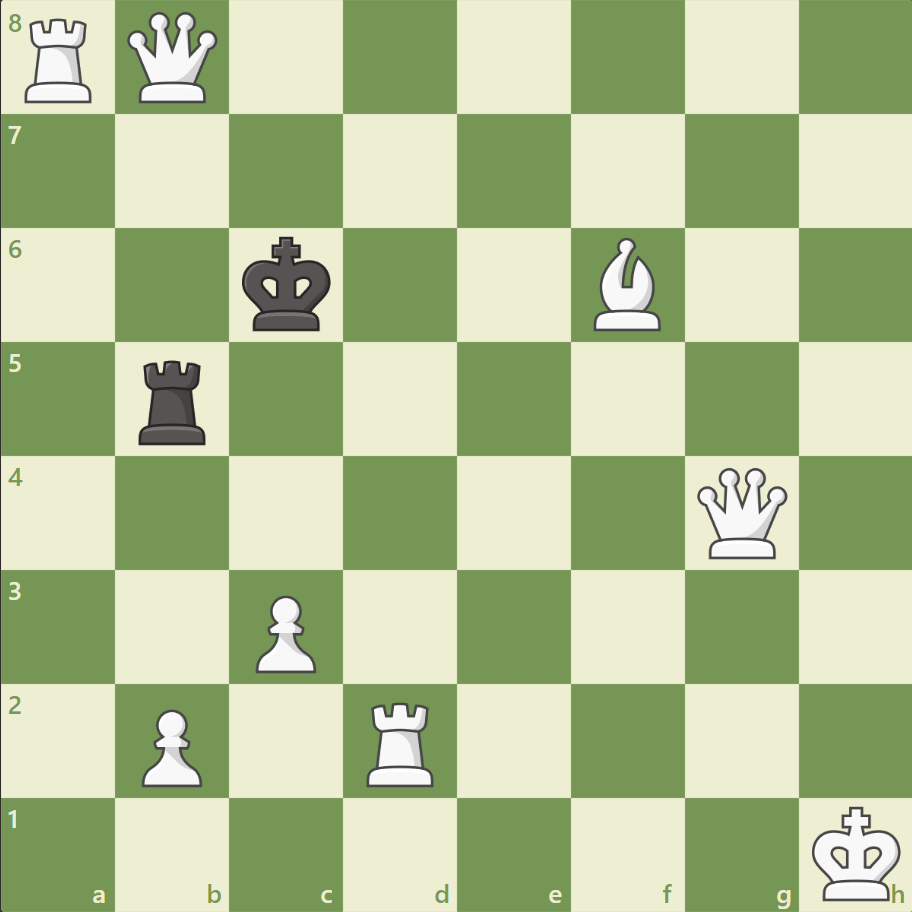B: (585, 233, 669, 336)
K: (806, 798, 906, 906)
P: (247, 586, 322, 677), (133, 700, 208, 791)
Q: (124, 9, 223, 108), (691, 463, 790, 562)
R: (19, 12, 102, 109), (360, 693, 442, 790)
k: (238, 231, 338, 339)
r: (133, 352, 215, 449)
